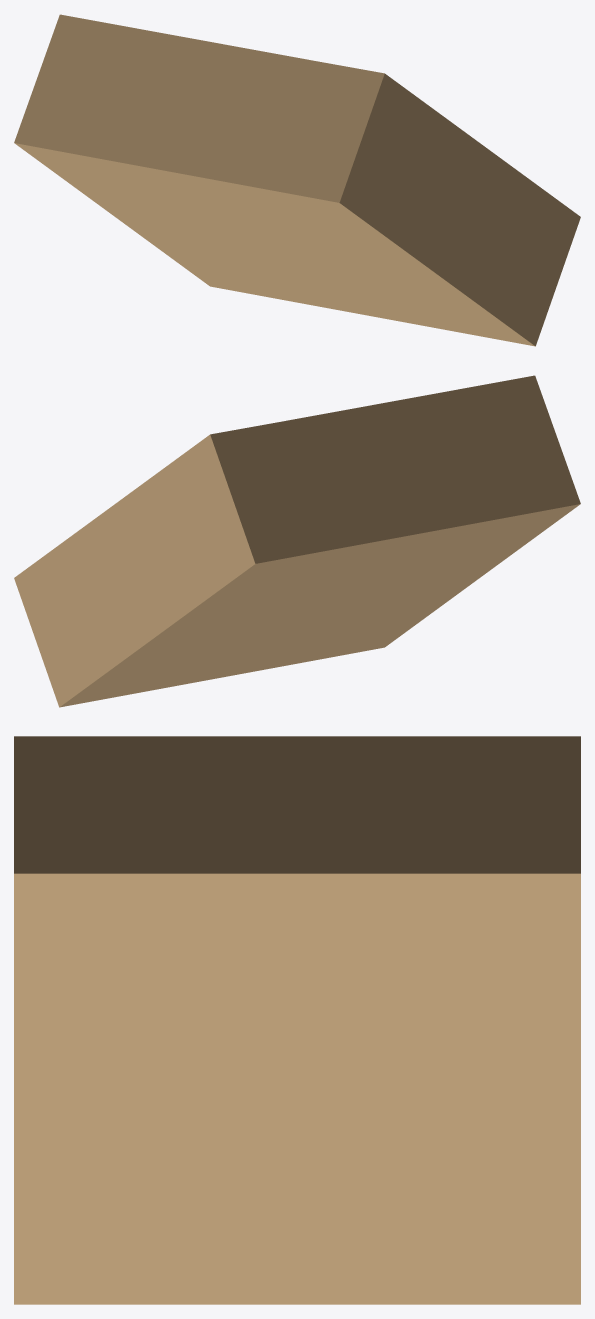
The picture shows the model from 3 angles, top to bottom: view 1: azimuth 30°, elevation 25°; view 2: azimuth 150°, elevation 25°; view 3: azimuth 270°, elevation 25°; orthographic projection. The views are drawn at different scales.
Parts seen in each view (by area): view 1: 0_0_1_2_3_0_3_0_1; view 2: 0_0_1_2_3_0_3_0_1; view 3: 0_0_1_2_3_0_3_0_1.
Boxes of the visible parts, x1,y1,x2,y2 form: 0_0_1_2_3_0_3_0_1: (14, 14, 580, 346); 0_0_1_2_3_0_3_0_1: (14, 375, 580, 707); 0_0_1_2_3_0_3_0_1: (14, 736, 580, 1304).
Size of the model in its own units: 29.47 by 19.5 by 27.
